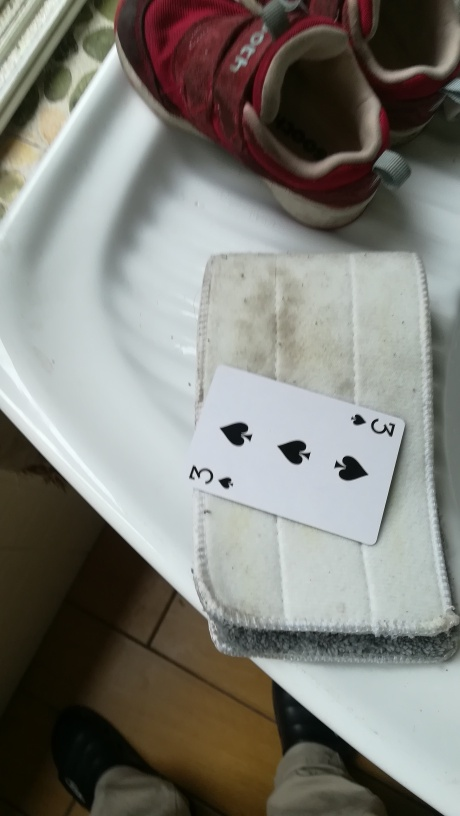ht 3: (186, 364, 408, 551)
